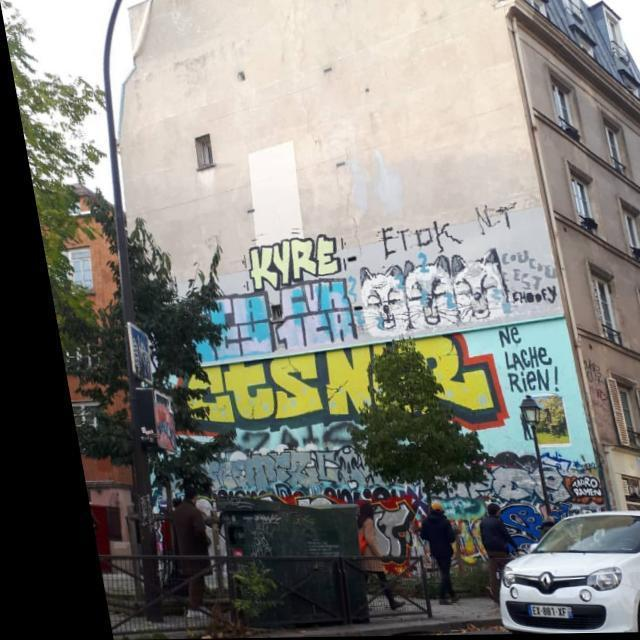-: (146, 331, 498, 439), (175, 446, 552, 512), (338, 245, 500, 338), (162, 292, 270, 363), (224, 235, 350, 292), (256, 280, 350, 353), (498, 288, 552, 308)
